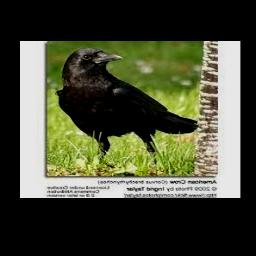Crow: (55, 47, 200, 176)
